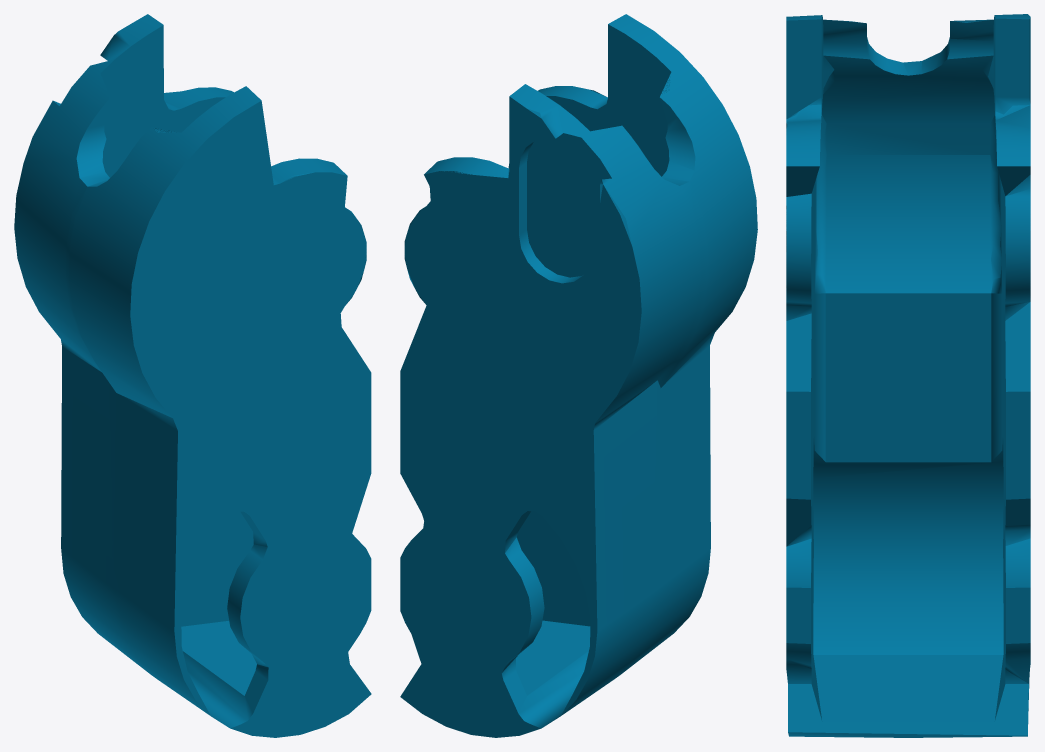
Rendered from elbow_middle_link.dae.
3 views of the same model, side by side, from view 1: azimuth 30°, elevation 25°; view 2: azimuth 150°, elevation 25°; view 3: azimuth 270°, elevation 25° (orthographic). The views are drawn at different scales.
Visible parts, largest first — view 1: FBXASC227FBXASC130FBXASC189FBXASC227FBXASC131FBXASC170FBXASC; view 2: FBXASC227FBXASC130FBXASC189FBXASC227FBXASC131FBXASC170FBXASC; view 3: FBXASC227FBXASC130FBXASC189FBXASC227FBXASC131FBXASC170FBXASC.
Part boxes in pixels (x1=…): FBXASC227FBXASC130FBXASC189FBXASC227FBXASC131FBXASC170FBXASC: x1=14, y1=14, x2=371, y2=737; FBXASC227FBXASC130FBXASC189FBXASC227FBXASC131FBXASC170FBXASC: x1=400, y1=14, x2=757, y2=737; FBXASC227FBXASC130FBXASC189FBXASC227FBXASC131FBXASC170FBXASC: x1=786, y1=14, x2=1030, y2=737.
Bounding box in the file's own units: 0.0544 × 0.044 × 0.1361.
